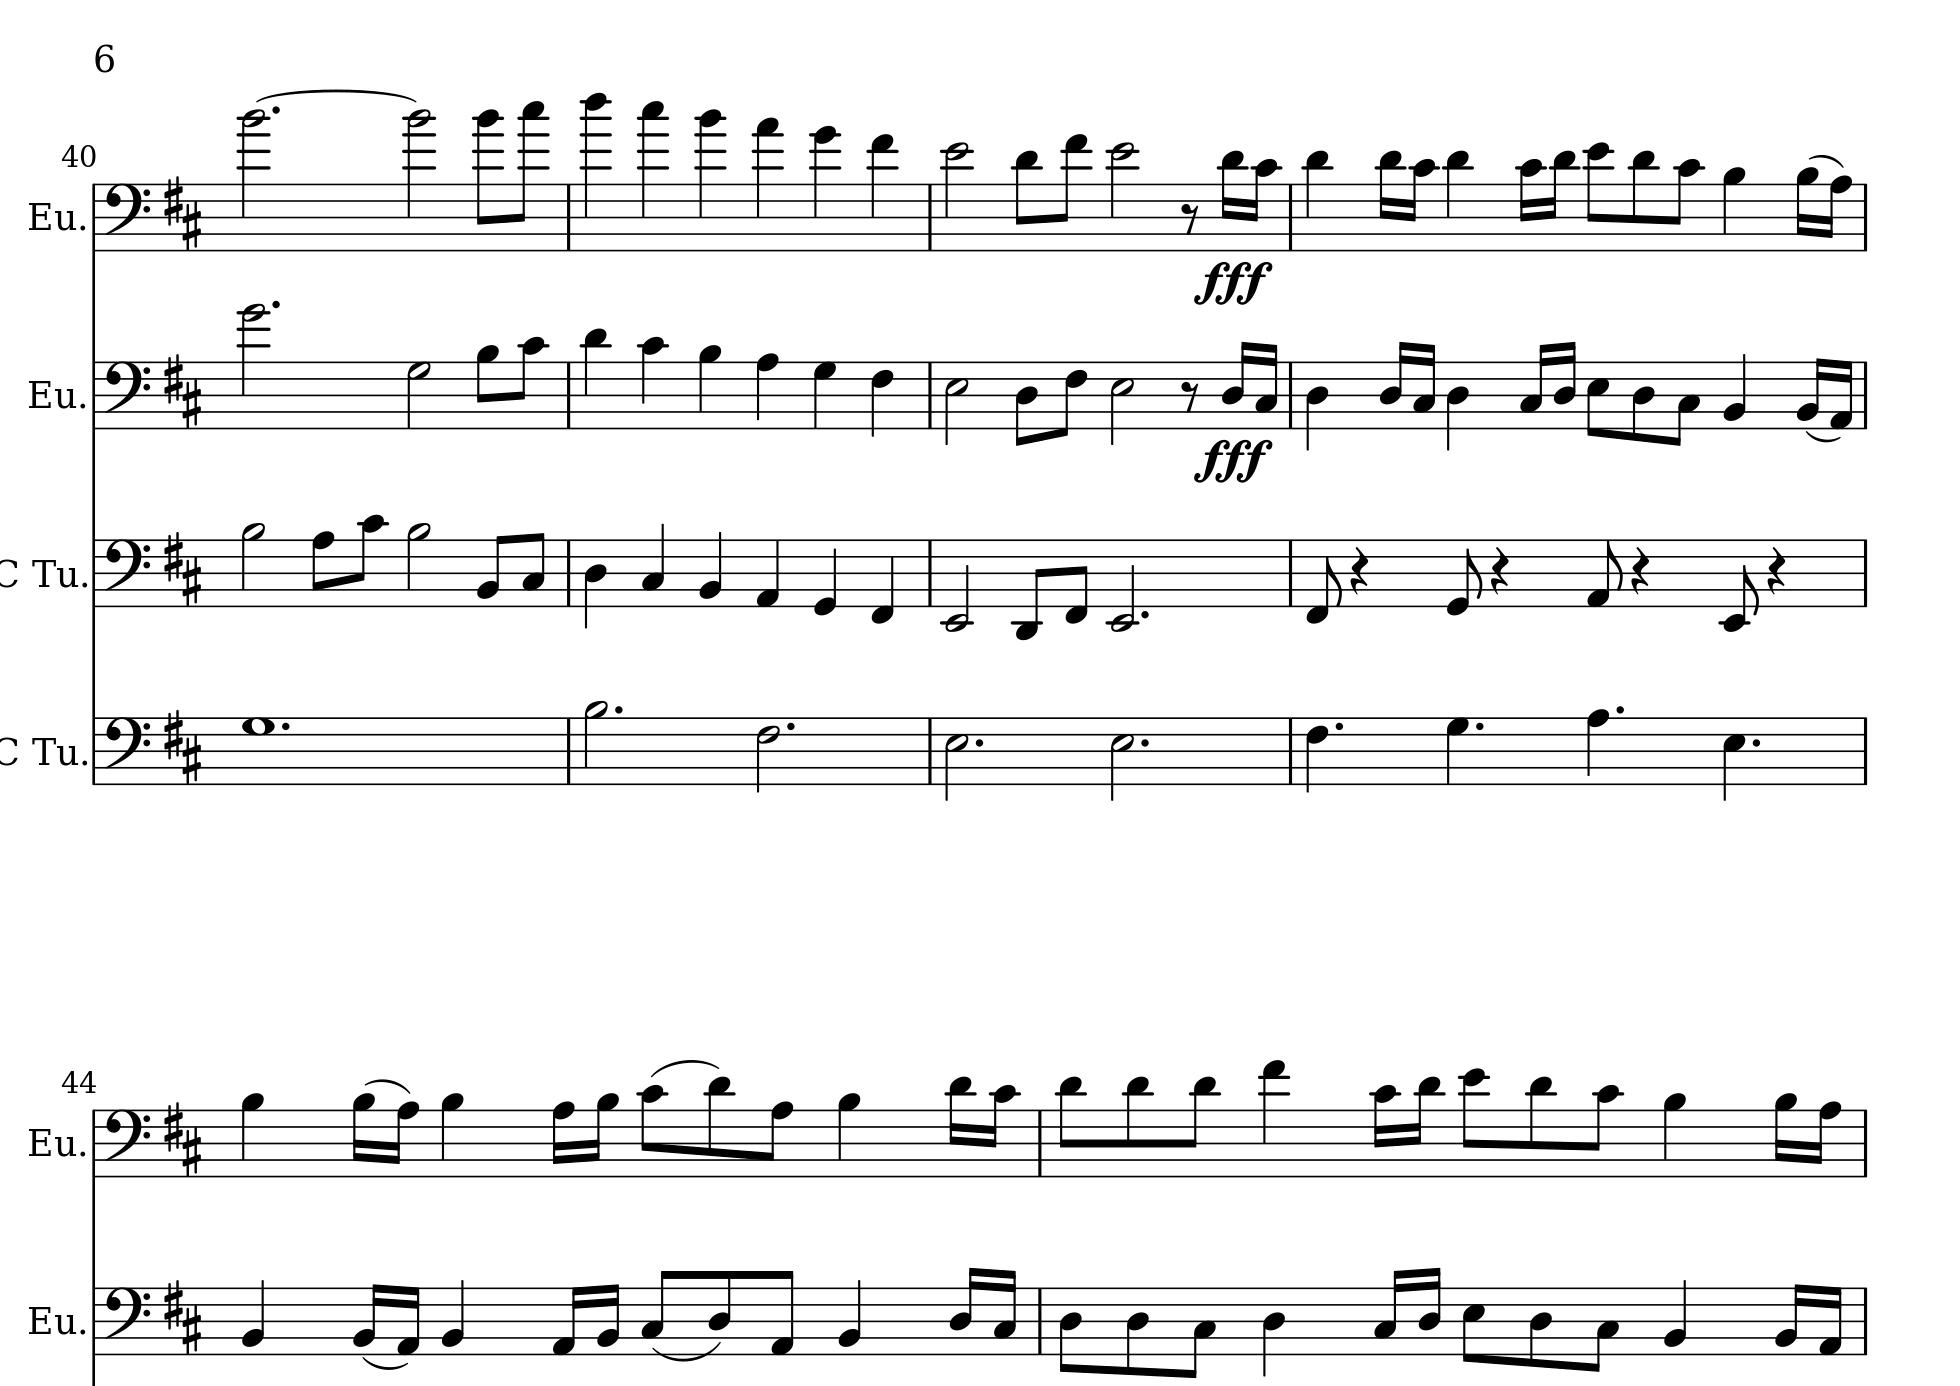0: (79, 142, 96, 169)
16_1: (550, 1284, 585, 1357), (394, 1282, 421, 1357), (1818, 1282, 1843, 1357), (1830, 358, 1854, 432)
16_10: (985, 1083, 1020, 1179), (1248, 157, 1281, 253), (1405, 157, 1437, 253), (1515, 156, 1545, 253), (1371, 1081, 1401, 1177)
16_11: (1408, 1072, 1443, 1179), (1545, 148, 1578, 252), (943, 1074, 975, 1177), (1374, 148, 1404, 253), (1218, 148, 1246, 253)
16_2: (1773, 1281, 1806, 1356), (1794, 355, 1825, 430), (351, 1281, 382, 1356), (595, 1281, 621, 1356)
16_3: (1372, 1267, 1407, 1356), (1518, 340, 1551, 430), (1254, 340, 1279, 430), (993, 1267, 1018, 1356), (1413, 340, 1437, 430)
16_4: (946, 1266, 981, 1356), (1221, 339, 1252, 430), (1378, 339, 1410, 429), (1417, 1264, 1443, 1356), (1554, 340, 1576, 429)
16_8: (385, 1099, 420, 1177), (1821, 172, 1854, 252), (1809, 1099, 1842, 1177), (549, 1099, 576, 1177)
16_9: (588, 1092, 619, 1179), (1794, 165, 1819, 253), (1771, 1090, 1797, 1179), (349, 1090, 375, 1177)
1_7: (240, 714, 276, 787)
2_-2: (940, 537, 973, 634), (1105, 537, 1138, 633)
2_12: (942, 139, 973, 253), (1107, 139, 1138, 253)
2_16: (237, 108, 271, 255), (400, 106, 435, 253)
2_5: (1108, 360, 1137, 445), (942, 360, 969, 445), (943, 715, 969, 802), (1110, 715, 1135, 802)
2_6: (754, 715, 780, 793)
2_7: (405, 358, 430, 430)
2_9: (238, 520, 268, 607), (403, 520, 433, 607), (583, 699, 609, 787)
4: (79, 1066, 97, 1095), (60, 142, 78, 169), (61, 1066, 78, 1093)
4_-1: (868, 535, 895, 625)
4_0: (811, 535, 838, 618)
4_1: (754, 537, 781, 609)
4_10: (637, 334, 667, 430)
4_11: (580, 327, 610, 430), (1303, 148, 1332, 253), (1444, 148, 1473, 252)
4_13: (1260, 1059, 1290, 1179), (868, 132, 897, 253)
4_14: (237, 301, 270, 430), (811, 126, 838, 253)
4_15: (753, 117, 781, 252)
4_16: (694, 108, 724, 252)
4_17: (639, 100, 670, 253)
4_18: (580, 91, 610, 252)
4_2: (835, 1278, 862, 1357), (1662, 1276, 1689, 1356), (1722, 352, 1749, 430), (697, 529, 724, 607), (240, 1278, 267, 1356), (439, 1278, 466, 1356)
4_3: (640, 520, 666, 607)
4_4: (1305, 360, 1330, 451), (1261, 1285, 1287, 1377), (1446, 360, 1470, 451), (583, 538, 607, 628)
4_5: (1722, 715, 1746, 802)
4_6: (868, 358, 894, 439), (1305, 714, 1329, 793)
4_7: (1444, 715, 1471, 784), (811, 360, 837, 430)
4_8: (754, 351, 781, 430), (1585, 706, 1609, 786)
4_9: (1720, 163, 1747, 252), (696, 342, 723, 430), (835, 1090, 862, 1179), (1662, 1090, 1689, 1177), (240, 1090, 265, 1177), (439, 1090, 465, 1177)
6: (94, 40, 115, 73)
8_-1: (1305, 537, 1344, 625), (1063, 535, 1090, 624)
8_-2: (1719, 537, 1761, 633)
8_-3: (1014, 537, 1048, 640)
8_0: (1446, 538, 1482, 618)
8_1: (1585, 538, 1624, 609), (768, 1267, 796, 1357)
8_10: (511, 334, 547, 430), (1587, 1081, 1623, 1177), (351, 511, 385, 607), (1669, 157, 1704, 252), (637, 1083, 667, 1179)
8_11: (1185, 1072, 1219, 1177), (1056, 1072, 1086, 1177), (1123, 1072, 1153, 1177), (1629, 148, 1659, 252), (705, 1074, 733, 1179), (1527, 1072, 1555, 1177), (1014, 148, 1042, 252)
8_12: (1459, 1065, 1491, 1177), (1585, 141, 1614, 252)
8_13: (1054, 132, 1092, 253)
8_16: (472, 109, 504, 250)
8_17: (514, 100, 550, 250)
8_2: (475, 532, 507, 607)
8_3: (1182, 1284, 1218, 1378), (1587, 1284, 1621, 1372), (639, 1269, 673, 1356), (1668, 358, 1701, 448), (520, 529, 546, 607)
8_4: (1057, 1285, 1084, 1375), (706, 1267, 733, 1356), (1125, 1285, 1150, 1378), (1527, 1285, 1554, 1369), (1014, 358, 1039, 447), (1630, 360, 1656, 444)
8_5: (1585, 358, 1611, 439), (1461, 1284, 1486, 1365)
8_6: (1056, 358, 1089, 439)
8_8: (760, 1099, 793, 1177), (310, 529, 334, 609)
8_9: (474, 343, 499, 430)
D_S: (162, 708, 202, 784), (162, 1276, 202, 1353), (163, 172, 202, 250), (163, 528, 202, 604), (163, 1099, 202, 1174), (163, 352, 201, 427)
Fclef: (102, 1284, 151, 1357), (102, 181, 151, 253), (102, 535, 151, 607), (102, 1107, 151, 1179), (103, 358, 151, 430), (102, 712, 150, 784)
Rests4: (1348, 544, 1371, 598), (1489, 544, 1512, 597), (1629, 544, 1651, 597), (1767, 544, 1786, 595)
Rests8: (1179, 201, 1201, 235), (1179, 379, 1201, 414)
Single_barline: (1857, 538, 1875, 606), (922, 361, 940, 427), (559, 538, 577, 604), (559, 717, 577, 783), (1032, 1108, 1050, 1174), (1858, 361, 1875, 430), (1857, 717, 1873, 784), (1857, 1108, 1873, 1176), (1032, 1285, 1048, 1353), (1857, 1287, 1873, 1354), (1282, 183, 1299, 249), (559, 361, 576, 427), (1284, 538, 1300, 604), (922, 538, 937, 607), (922, 717, 937, 784), (1857, 184, 1872, 250), (1284, 361, 1299, 427), (561, 184, 576, 249), (922, 184, 937, 249), (1284, 718, 1299, 783), (87, 361, 100, 430), (88, 538, 102, 607), (88, 715, 100, 784), (88, 1108, 100, 1176), (88, 1287, 100, 1354), (88, 184, 100, 250)
Slur: (651, 1339, 723, 1362), (649, 1057, 721, 1077), (364, 1077, 412, 1093), (361, 1354, 409, 1369), (1809, 153, 1845, 168), (1804, 429, 1842, 442)
dot: (1332, 718, 1347, 733), (1749, 735, 1764, 748), (279, 718, 292, 732), (1473, 718, 1486, 732), (972, 735, 985, 748), (1138, 735, 1152, 748), (1140, 606, 1152, 621), (612, 702, 624, 715), (784, 718, 796, 732), (268, 298, 280, 310), (1614, 703, 1626, 715), (270, 103, 280, 117)
fff: (1191, 258, 1275, 309), (1192, 436, 1275, 487)
